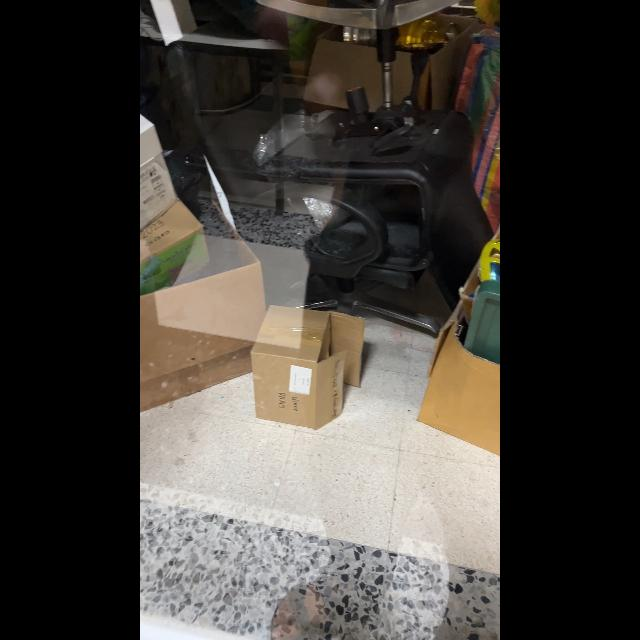cardboard_box: (140, 204, 270, 420), (239, 296, 379, 442), (140, 120, 202, 284)
